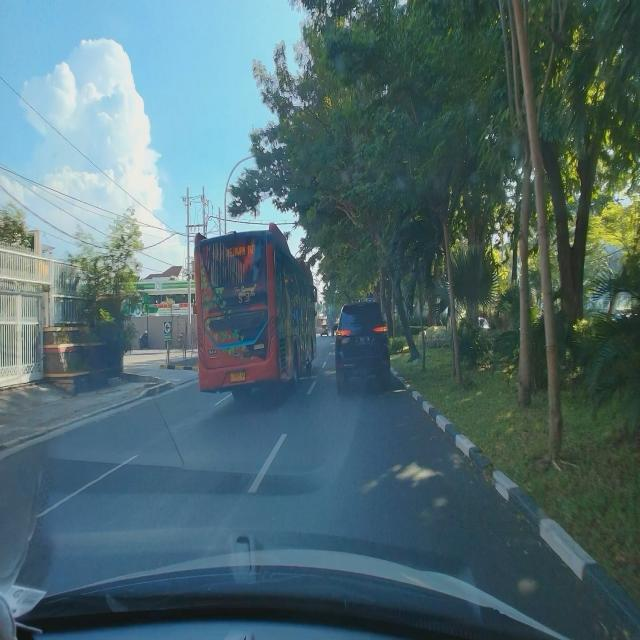bus: (192, 221, 319, 400)
car: (333, 297, 392, 390)
license-plate: (230, 371, 246, 383), (355, 335, 370, 346)
